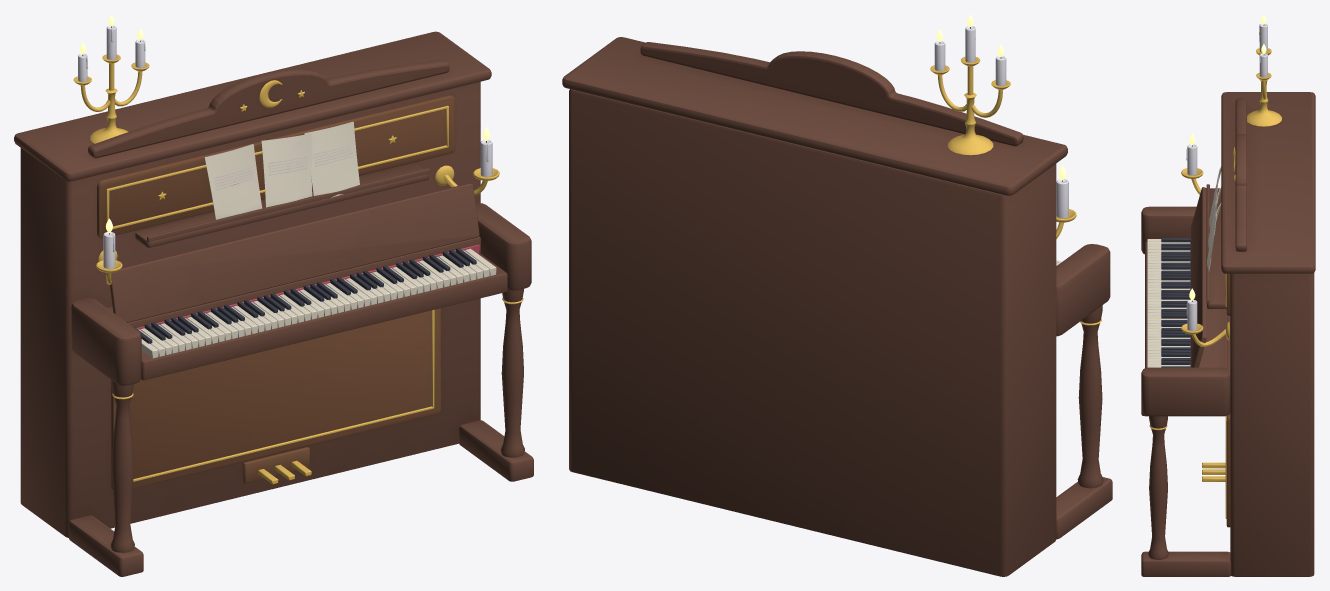
The model's file is old-piano.glb.
The picture shows the model from 3 angles, left to right: view 1: azimuth 30°, elevation 25°; view 2: azimuth 150°, elevation 25°; view 3: azimuth 270°, elevation 25°; orthographic projection. The views are drawn at different scales.
Visible parts, largest first — view 1: old-piano_body, old-piano_fallboard; view 2: old-piano_body; view 3: old-piano_body, old-piano_fallboard.
Boxes of the visible parts, <box> form: old-piano_body: <box>14,25,533,576</box>; old-piano_fallboard: <box>109,183,479,322</box>; old-piano_body: <box>562,26,1112,576</box>; old-piano_body: <box>1141,24,1315,576</box>; old-piano_fallboard: <box>1191,187,1206,367</box>.
Size of the model in its own units: 1.48 by 1.64 by 0.62.
Materials: 3 (2 with a texture image).
